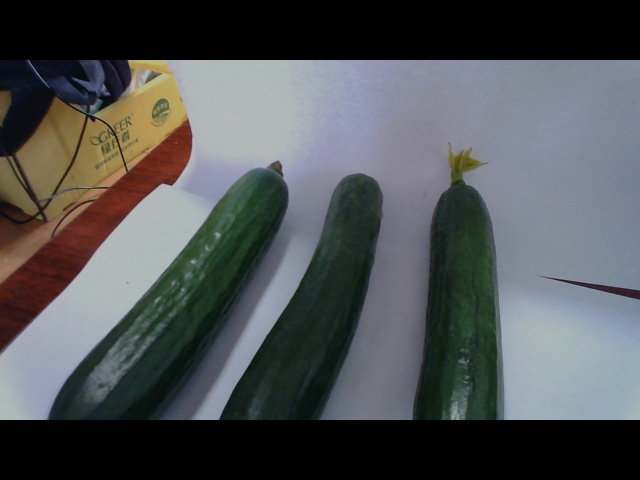cucumber: (62, 135, 388, 423), (414, 149, 503, 420)
